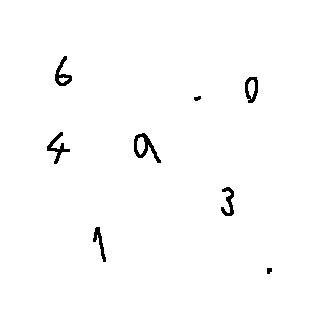.: (262, 257, 280, 285), (187, 91, 207, 107)
0: (229, 70, 268, 107)
1: (89, 224, 112, 269)
3: (212, 182, 251, 224)
4: (40, 127, 80, 169)
6: (45, 53, 84, 93)
9: (121, 128, 170, 179)
